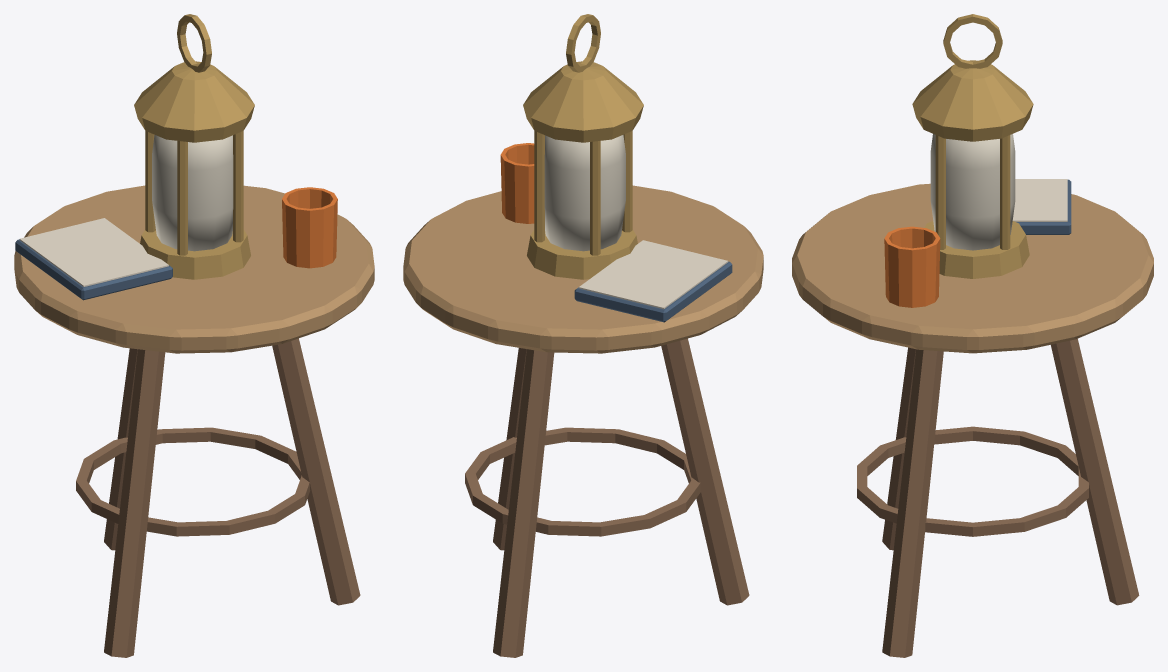
The picture shows the model from 3 angles, left to right: view 1: azimuth 30°, elevation 25°; view 2: azimuth 150°, elevation 25°; view 3: azimuth 270°, elevation 25°; orthographic projection.
Parts seen in each view (by area): view 1: body, lamp_glass; view 2: body, lamp_glass; view 3: body, lamp_glass.
Part boxes in pixels (left/top/right/bottom): body: left=14, top=14, right=374, bottom=657; lamp_glass: left=152, top=135, right=233, bottom=251; body: left=403, top=14, right=763, bottom=657; lamp_glass: left=544, top=135, right=625, bottom=251; body: left=792, top=14, right=1153, bottom=657; lamp_glass: left=930, top=134, right=1015, bottom=250.
Bounding box in the file's own units: 0.4775 × 0.8534 × 0.4775.
